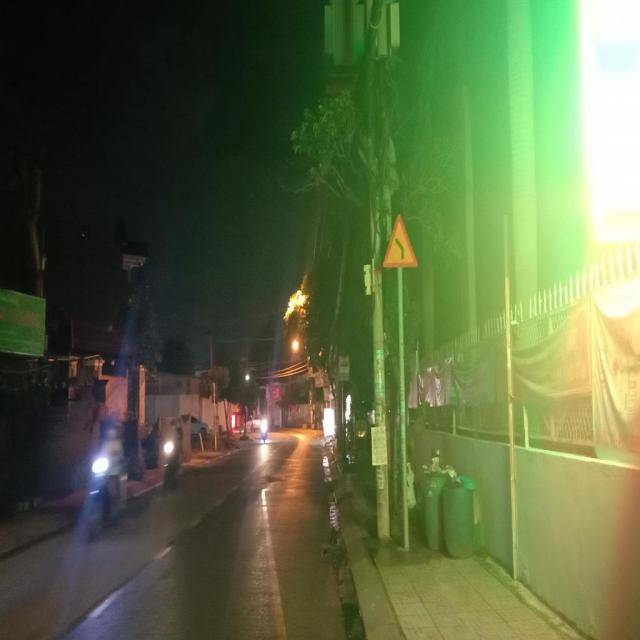cho_ngoat_nguy_hiem_ben_trai: (381, 211, 419, 267)
khac: (340, 354, 350, 381)
